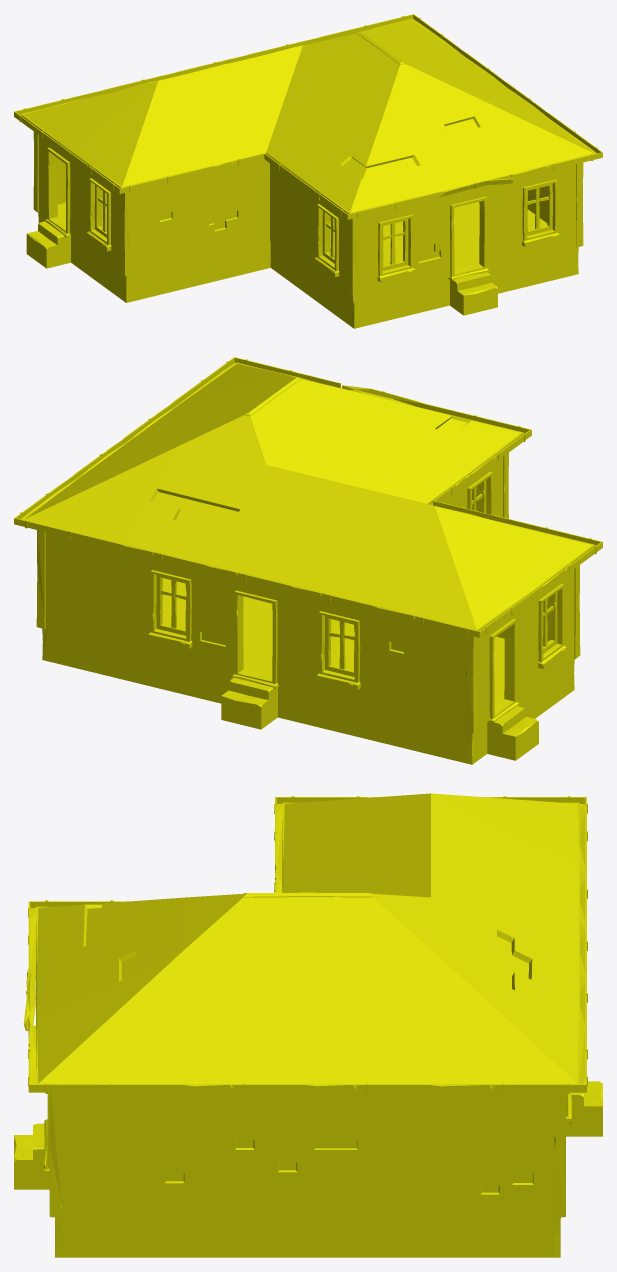
The model's file is SM_PolygonApocalypse_Bld_House_01.glb.
3 views of the same model, one above another, from view 1: azimuth 30°, elevation 25°; view 2: azimuth 150°, elevation 25°; view 3: azimuth 270°, elevation 25° (orthographic). The views are drawn at different scales.
Visible parts, largest first — view 1: SM_PolygonApocalypse_Bld_House_01; view 2: SM_PolygonApocalypse_Bld_House_01; view 3: SM_PolygonApocalypse_Bld_House_01.
Boxes of the visible parts, x1,y1,x2,y2 form: SM_PolygonApocalypse_Bld_House_01: (14, 14, 602, 328); SM_PolygonApocalypse_Bld_House_01: (14, 357, 602, 764); SM_PolygonApocalypse_Bld_House_01: (14, 793, 602, 1257).
Bounding box in the file's own units: 14.17 × 6.36 × 11.96.
Materials: 1 (1 with a texture image).
